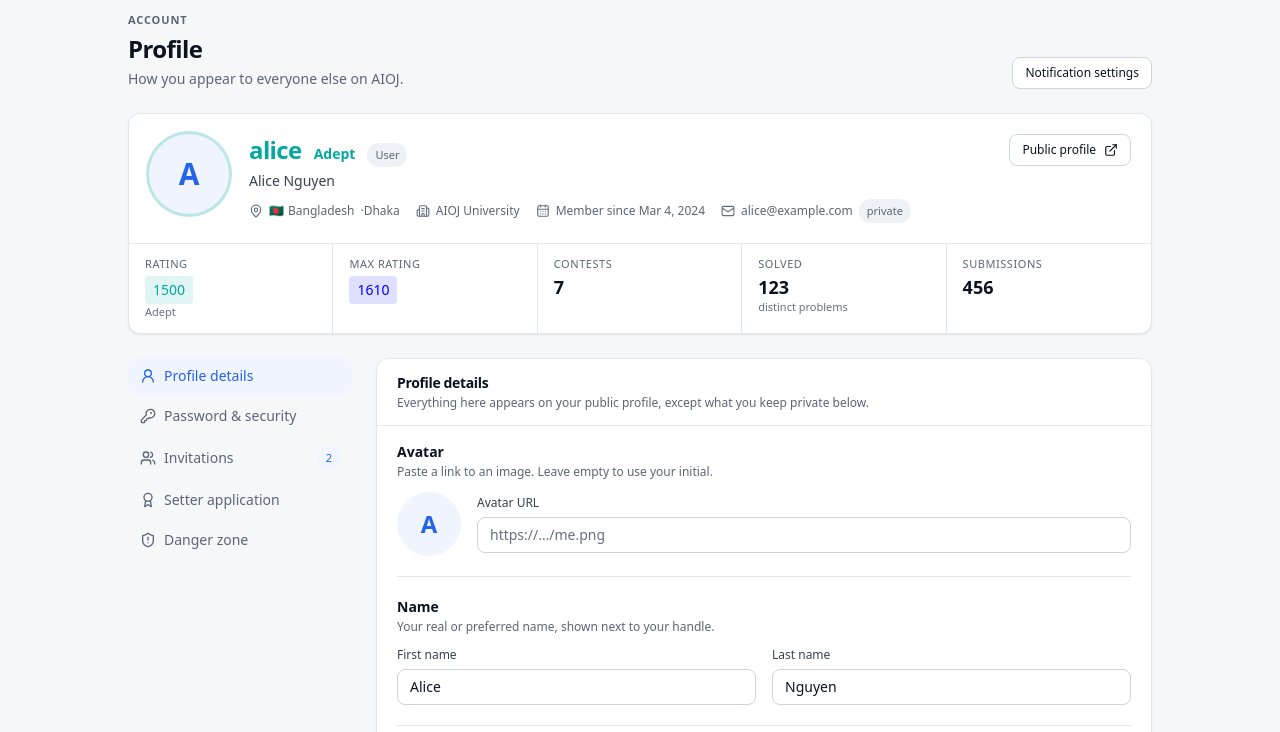
invitations load with the page so the nav can show a count
Click the button "Invitations 2": (240, 458) [128,438,352,478]
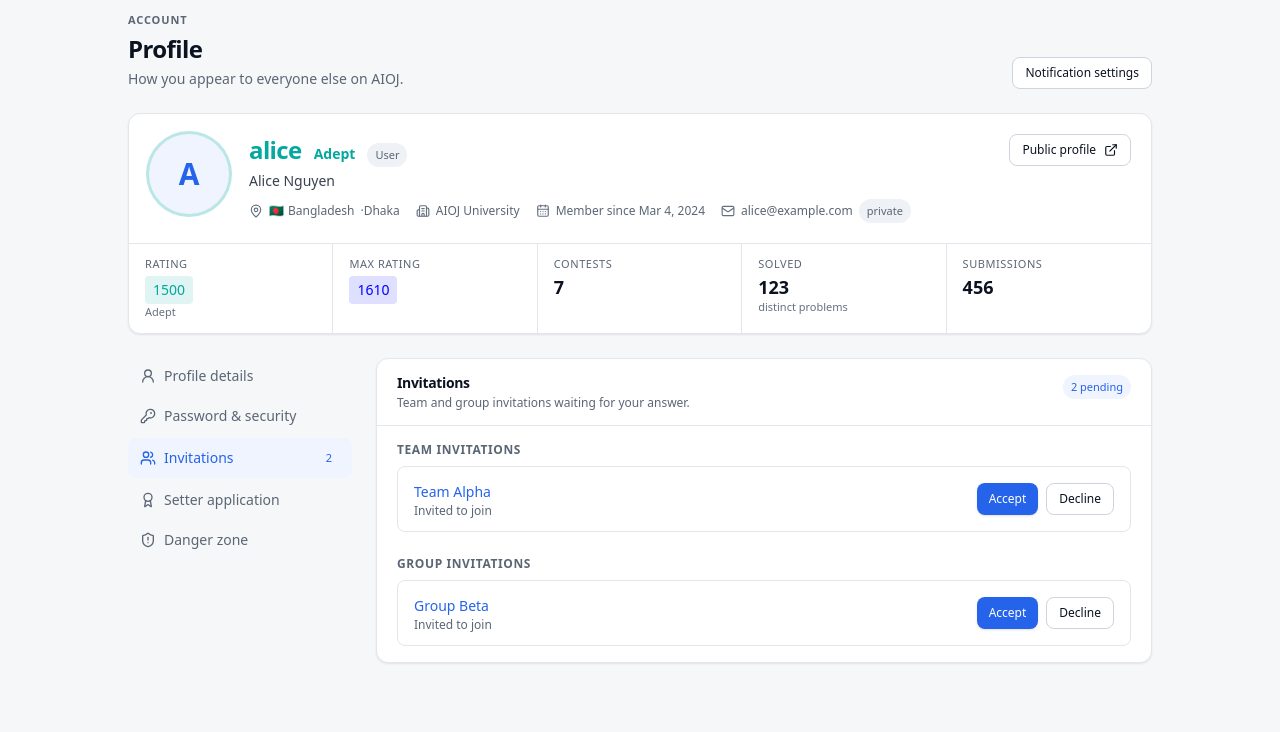
Now the link "Team Alpha" is shown, box [414,482,491,500]
Now the link "Group Beta" is shown, box [414,596,489,614]
